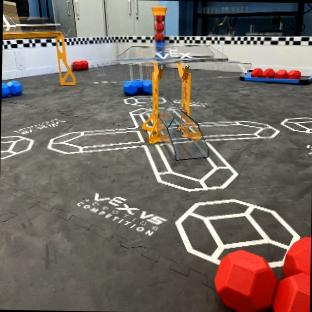V5_BLUE: (123, 79, 151, 95), (1, 81, 22, 96)
V5_RED: (216, 237, 310, 312), (251, 68, 300, 79), (72, 60, 87, 69)
